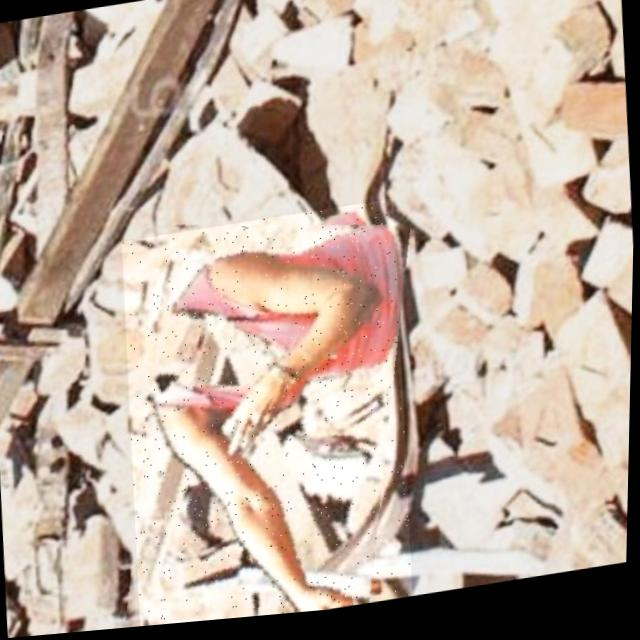Person in Rubble: (116, 202, 422, 631)
